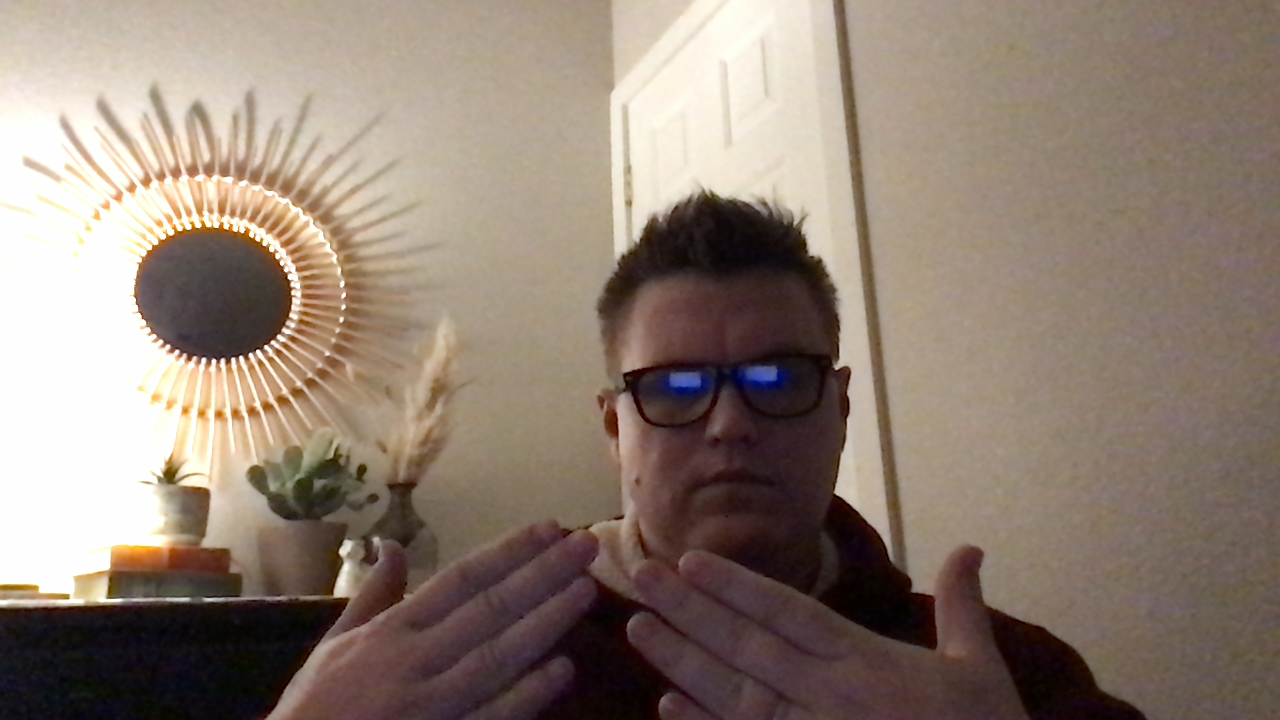thankyou: (250, 517, 1030, 720)
